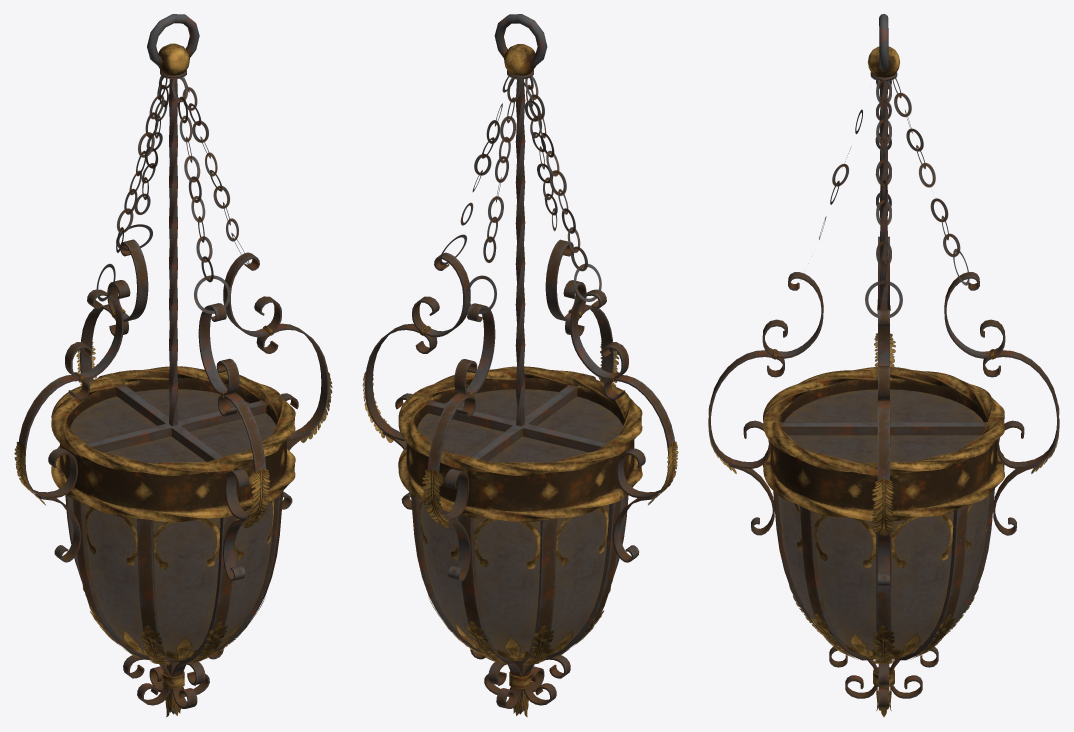
3 renders of one model, left to right at view 1: azimuth 30°, elevation 25°; view 2: azimuth 150°, elevation 25°; view 3: azimuth 270°, elevation 25°, orthographic.
Parts seen in each view (by area): view 1: Flashlight_Metal_0, Flashlight_Glass_0, Flashlight_MetalAlpha_0; view 2: Flashlight_Metal_0, Flashlight_Glass_0, Flashlight_MetalAlpha_0; view 3: Flashlight_Metal_0, Flashlight_Glass_0, Flashlight_MetalAlpha_0.
Part boxes in pixels (<box>): Flashlight_Metal_0: <box>18,14,329,714</box>; Flashlight_Glass_0: <box>67,389,275,660</box>; Flashlight_MetalAlpha_0: <box>14,75,332,717</box>; Flashlight_Metal_0: <box>365,14,675,714</box>; Flashlight_Glass_0: <box>417,389,625,659</box>; Flashlight_MetalAlpha_0: <box>362,76,678,717</box>; Flashlight_Metal_0: <box>708,14,1059,707</box>; Flashlight_Glass_0: <box>778,389,989,657</box>; Flashlight_MetalAlpha_0: <box>708,78,1059,716</box>.
Size of the model in its own units: 0.3537 by 0.7754 by 0.3537.
3 materials, 3 textured.
